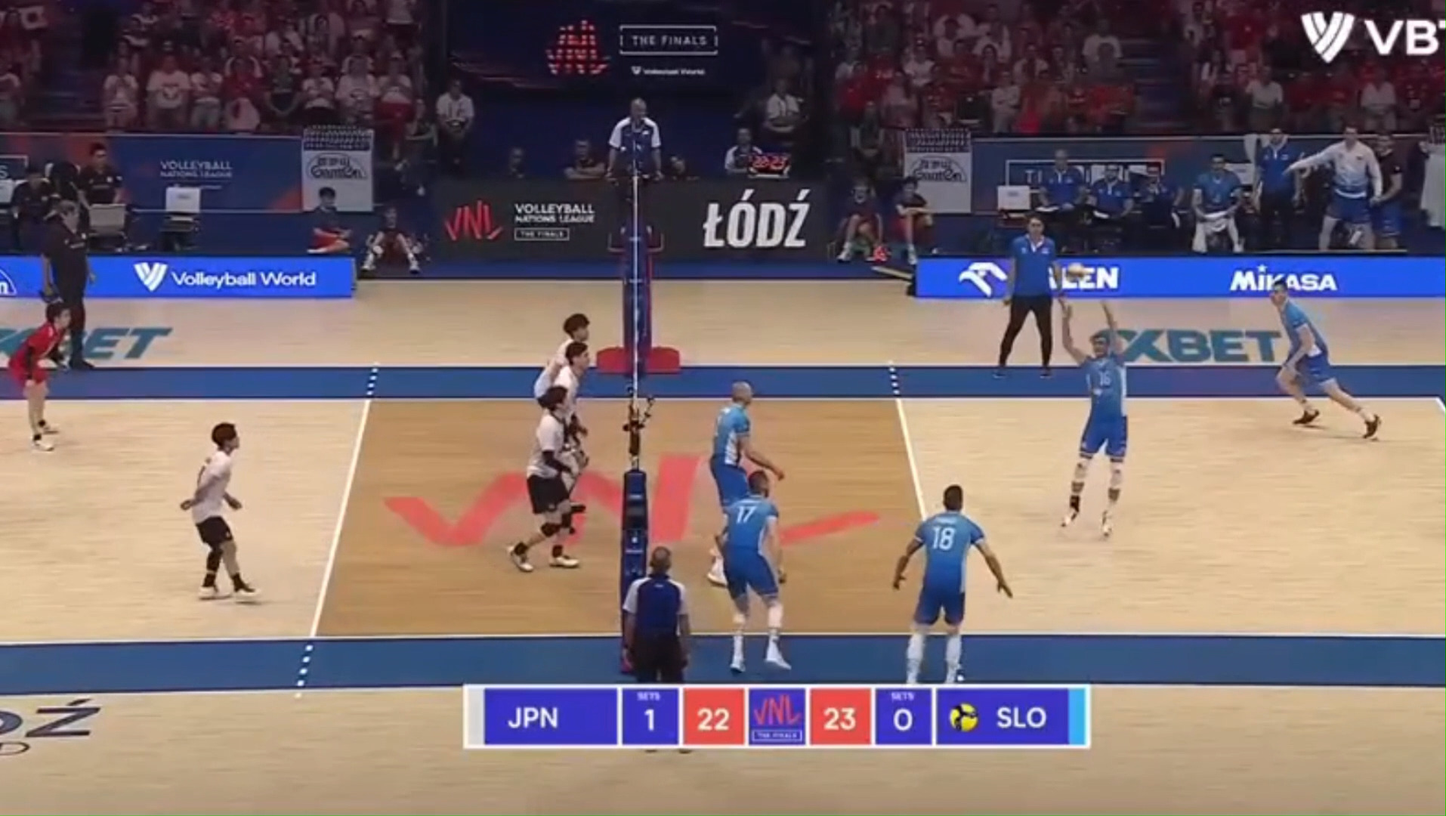ball: (1064, 262, 1091, 280)
player: (892, 484, 1012, 683), (1269, 280, 1380, 437), (1061, 301, 1128, 537), (718, 470, 789, 673), (709, 382, 783, 511), (708, 530, 725, 585)
player 1: (180, 422, 256, 601), (509, 386, 577, 571), (8, 301, 70, 450), (533, 312, 589, 397), (551, 341, 589, 416)
referee: (997, 216, 1061, 373), (606, 98, 663, 264), (623, 547, 691, 683), (42, 200, 94, 369)
